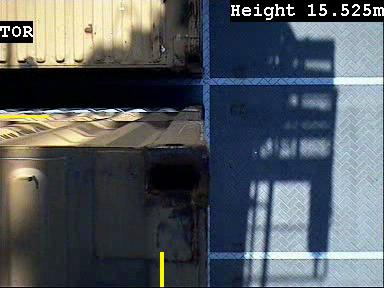groundmarker_2: (182, 34, 235, 63), (186, 190, 239, 219)
